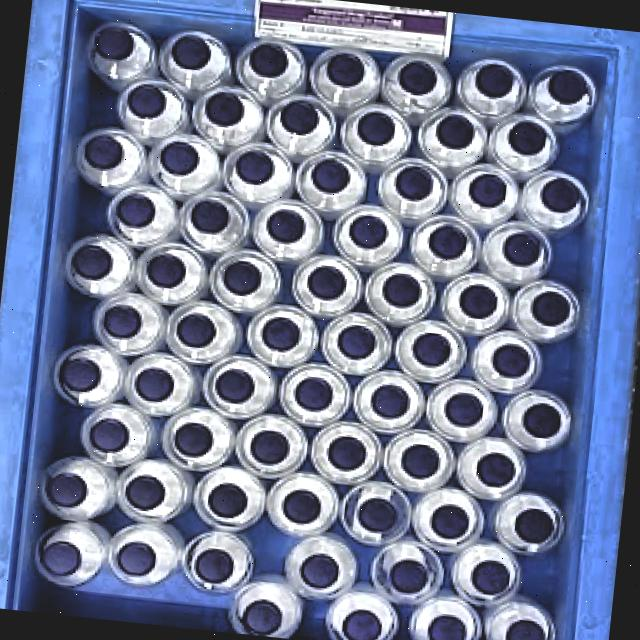vial: (242, 599, 282, 635), (71, 244, 112, 279), (427, 224, 467, 259), (116, 541, 156, 576), (84, 134, 123, 169), (125, 475, 164, 510), (300, 553, 339, 588), (115, 193, 155, 227), (46, 473, 86, 507), (59, 358, 100, 391), (223, 260, 261, 295), (398, 61, 437, 95), (280, 100, 319, 134), (249, 43, 288, 77), (311, 158, 350, 192), (541, 178, 580, 212), (307, 265, 346, 299), (531, 291, 570, 325), (336, 325, 375, 359), (176, 313, 215, 347), (134, 367, 173, 401), (522, 403, 561, 437), (475, 452, 514, 486), (173, 422, 212, 456), (89, 418, 128, 452), (358, 498, 397, 532), (514, 508, 553, 542), (389, 559, 428, 593), (194, 549, 233, 583), (40, 541, 79, 575), (549, 69, 587, 103), (435, 114, 473, 148), (326, 52, 364, 86), (171, 35, 209, 69), (127, 84, 165, 118), (395, 166, 433, 200), (146, 253, 184, 287), (327, 436, 365, 470), (250, 430, 288, 464), (208, 483, 246, 517), (471, 560, 509, 594), (160, 141, 199, 174), (190, 200, 229, 233), (266, 209, 305, 242), (215, 369, 254, 402), (294, 377, 333, 410), (430, 505, 469, 538), (476, 63, 513, 97), (236, 150, 273, 184), (413, 332, 450, 366), (262, 317, 299, 351), (371, 384, 408, 418), (205, 92, 243, 125), (95, 26, 133, 59), (349, 215, 387, 248), (382, 273, 420, 306), (492, 344, 530, 377), (102, 305, 141, 337), (503, 231, 539, 265), (509, 121, 546, 154), (357, 112, 394, 145), (469, 174, 506, 207), (401, 444, 438, 477), (283, 490, 319, 523), (459, 285, 496, 317), (445, 393, 482, 425), (343, 609, 381, 640), (427, 615, 465, 640), (505, 619, 545, 640), (435, 639, 459, 640)
